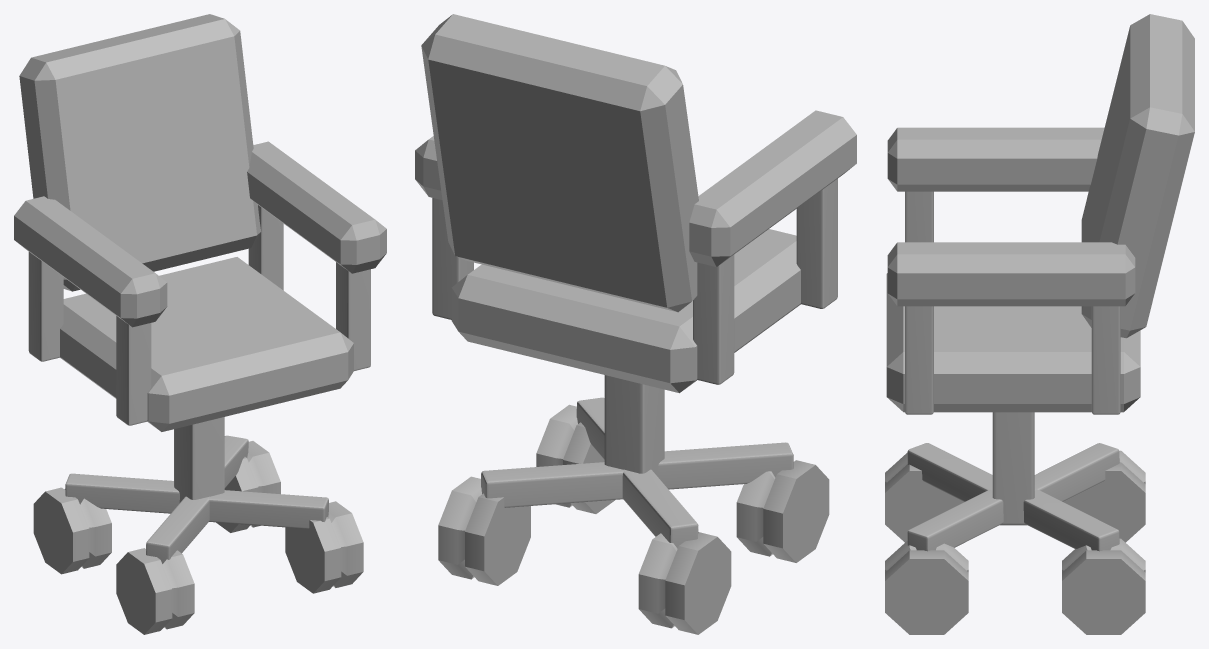
File: chair.glb
The picture shows the model from 3 angles, left to right: view 1: azimuth 30°, elevation 25°; view 2: azimuth 150°, elevation 25°; view 3: azimuth 270°, elevation 25°; orthographic projection. The views are drawn at different scales.
Visible parts, largest first — view 1: pCube10; view 2: pCube10; view 3: pCube10.
Part boxes in pixels (bbox=[...]): pCube10: bbox=[14, 14, 386, 634]; pCube10: bbox=[415, 14, 856, 634]; pCube10: bbox=[885, 14, 1194, 634].
Bounding box in the file's own units: 3.15 × 5.5 × 2.97.
Materials: 1 (1 with a texture image).
